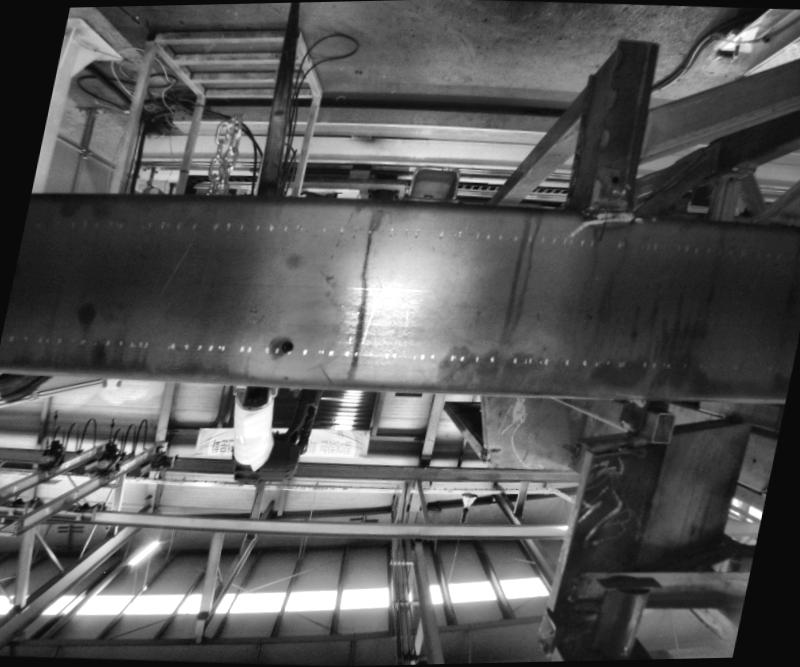bracket: (391, 155, 473, 203)
hole: (278, 340, 292, 352)
